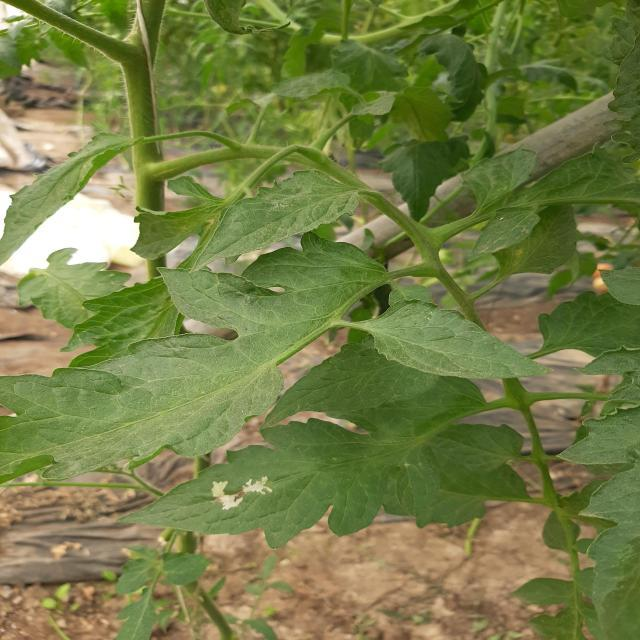Tuta absoluta: (211, 476, 273, 511)
